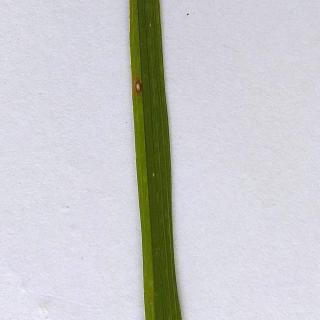Blast: (129, 62, 153, 108)
